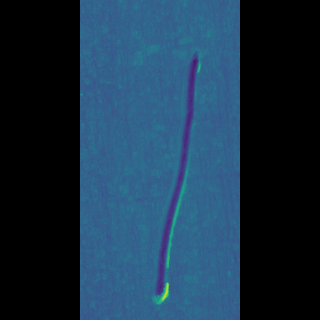Loch: (154, 45, 181, 306)
